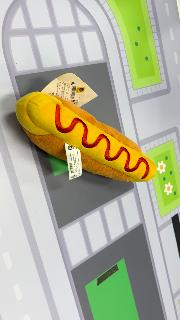hotdog: (15, 91, 158, 183)
